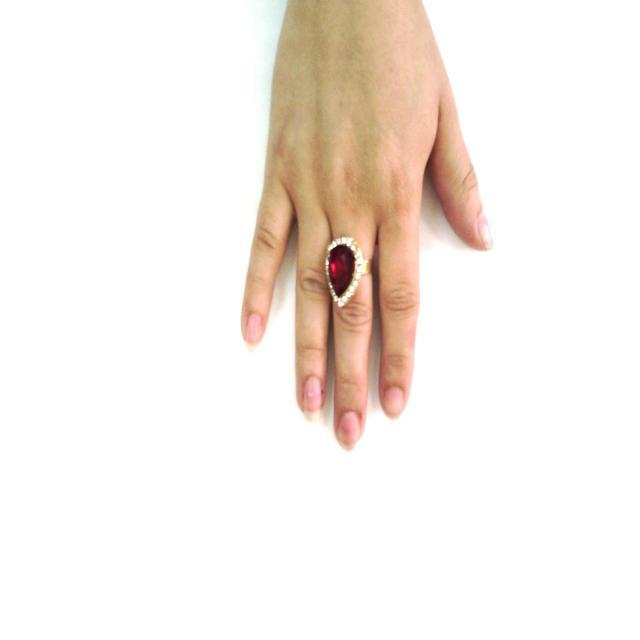Fingernail: (303, 377, 321, 423), (338, 412, 360, 448), (383, 387, 404, 417), (246, 315, 263, 344), (478, 215, 492, 248)
